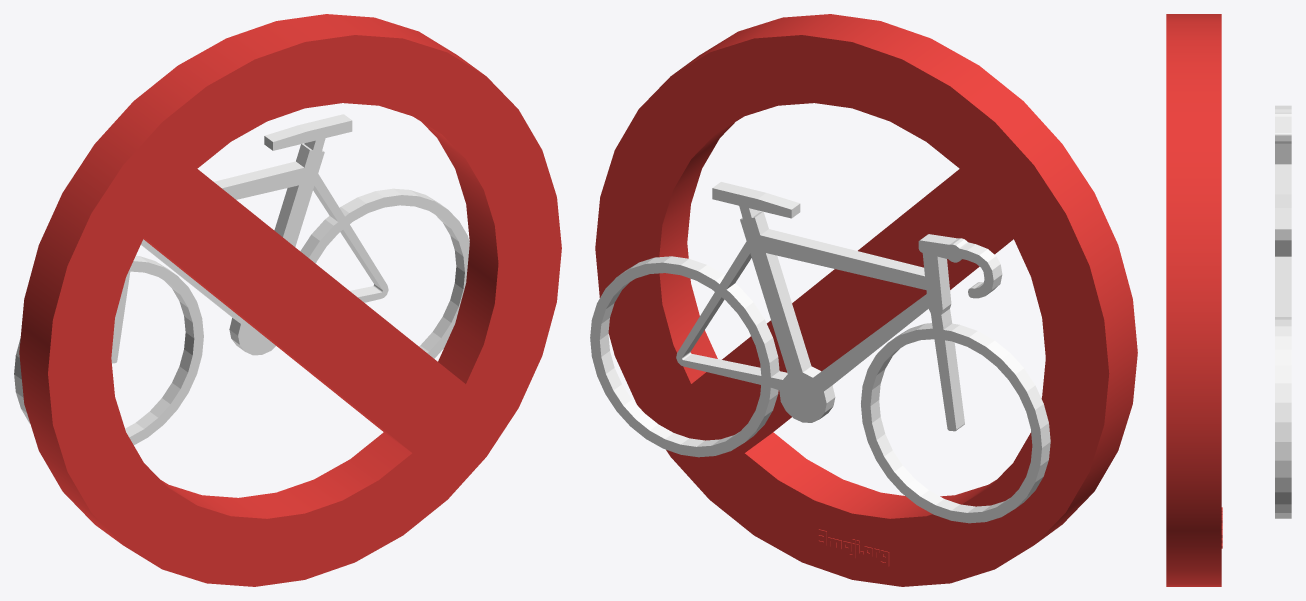
Rendered from no_bicycles.fbx.
The picture shows the model from 3 angles, left to right: view 1: azimuth 30°, elevation 25°; view 2: azimuth 150°, elevation 25°; view 3: azimuth 270°, elevation 25°; orthographic projection. The views are drawn at different scales.
Visible parts, largest first — view 1: Circle.2621; view 2: Circle.2621; view 3: Circle.2621.
Boxes of the visible parts, x1,y1,x2,y2 form: Circle.2621: [14, 14, 561, 586]; Circle.2621: [590, 14, 1137, 586]; Circle.2621: [1166, 14, 1291, 586].
Bounding box in the file's own units: 192 × 192 × 42.05.
1 material, 1 textured.
